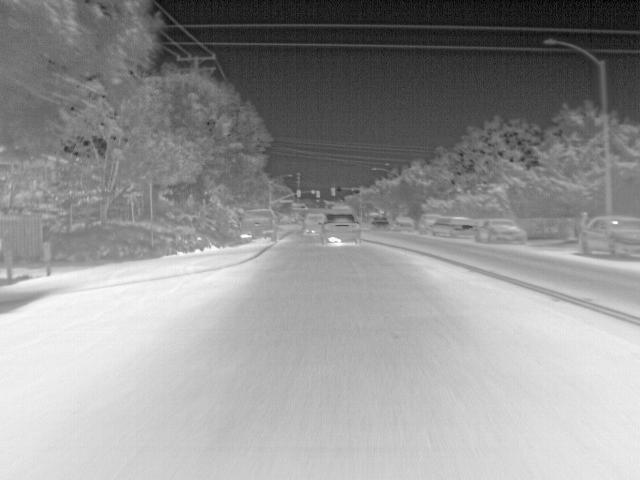car: (578, 216, 640, 260), (318, 212, 361, 246), (473, 217, 528, 243), (239, 207, 279, 242), (430, 215, 474, 239), (418, 212, 442, 235), (303, 213, 327, 234), (369, 214, 391, 232), (392, 216, 415, 232)
person: (577, 212, 590, 233)
